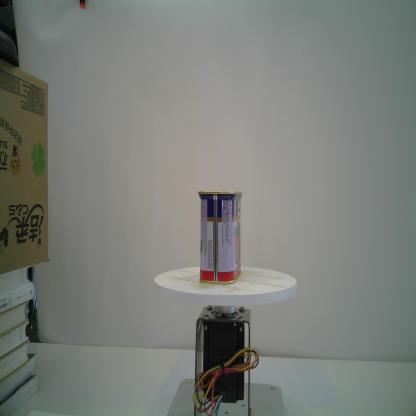Canned Food: (197, 190, 244, 286)
